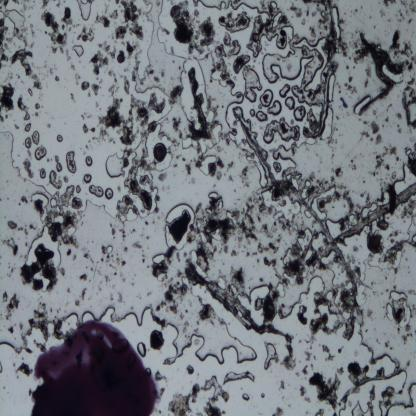Air bubble: (144, 289, 257, 367), (0, 296, 146, 355), (258, 26, 322, 104), (136, 0, 186, 96), (378, 368, 416, 416), (162, 200, 195, 252), (24, 226, 63, 268), (0, 126, 26, 185), (110, 1, 144, 43), (0, 0, 29, 41), (192, 0, 267, 15), (264, 119, 301, 145), (311, 183, 336, 220), (390, 287, 412, 329), (242, 65, 264, 103), (106, 148, 132, 177), (393, 165, 416, 196), (27, 194, 51, 223), (187, 250, 208, 278), (263, 339, 278, 370), (205, 375, 223, 399), (224, 369, 254, 383), (322, 106, 334, 141), (349, 400, 376, 415), (76, 0, 94, 22), (355, 280, 368, 309), (331, 5, 342, 39), (200, 154, 216, 177), (298, 225, 312, 251), (352, 95, 370, 113), (119, 208, 139, 224), (327, 73, 337, 102), (376, 188, 392, 206), (65, 150, 78, 172), (48, 171, 63, 190), (266, 101, 283, 117), (280, 271, 299, 285), (34, 144, 48, 163), (360, 202, 376, 218), (300, 177, 311, 200), (383, 302, 395, 323), (332, 398, 346, 415), (293, 105, 307, 122), (208, 227, 222, 241), (71, 44, 85, 58), (89, 184, 103, 198), (284, 95, 296, 110), (136, 340, 146, 358), (279, 84, 291, 98), (198, 231, 208, 247), (50, 213, 64, 224), (153, 253, 167, 264), (293, 173, 303, 188), (271, 160, 283, 172), (276, 283, 285, 299), (32, 128, 40, 146), (104, 186, 114, 200), (341, 309, 352, 321), (223, 208, 233, 220), (156, 271, 166, 283), (218, 276, 228, 288), (64, 226, 76, 236), (324, 290, 334, 302), (85, 155, 94, 168), (208, 191, 219, 201), (48, 196, 57, 208), (39, 166, 46, 180), (241, 391, 250, 401), (304, 208, 312, 219), (24, 121, 32, 132), (84, 173, 92, 184), (25, 136, 32, 148), (218, 199, 223, 209), (56, 134, 62, 142), (206, 208, 212, 214), (259, 393, 265, 399), (144, 219, 148, 226)
Background material: (194, 200, 255, 271), (99, 92, 166, 144), (169, 1, 219, 58), (321, 277, 362, 342), (33, 183, 83, 236), (231, 195, 279, 247), (183, 65, 214, 143), (19, 244, 59, 295), (30, 303, 67, 349), (286, 240, 328, 280), (8, 46, 42, 90), (305, 368, 341, 409), (126, 161, 153, 211), (297, 302, 329, 344), (41, 6, 69, 52), (386, 32, 416, 72), (156, 278, 188, 314), (168, 383, 204, 414), (303, 0, 332, 37), (151, 243, 180, 279), (324, 36, 348, 79), (305, 301, 332, 339), (254, 285, 281, 323), (364, 218, 388, 258), (275, 330, 298, 370), (98, 243, 127, 271), (401, 76, 416, 130), (91, 42, 114, 76), (335, 192, 357, 227), (384, 0, 416, 22), (0, 286, 20, 318), (359, 118, 382, 144), (384, 238, 405, 266), (221, 30, 242, 58), (375, 144, 398, 168), (0, 82, 15, 118), (57, 226, 80, 249), (228, 267, 247, 294), (0, 16, 10, 67), (214, 156, 236, 179), (81, 77, 101, 102), (13, 359, 34, 379), (17, 95, 32, 122), (148, 328, 164, 351), (255, 240, 277, 255), (168, 81, 183, 101), (198, 303, 214, 321), (2, 238, 18, 256), (78, 26, 96, 42), (124, 42, 140, 60), (171, 116, 183, 139), (321, 343, 333, 364), (24, 157, 35, 179), (262, 254, 278, 269), (240, 166, 250, 188), (154, 168, 169, 182), (299, 385, 309, 405), (121, 76, 132, 94), (344, 78, 355, 96), (332, 166, 345, 180), (94, 14, 109, 26), (117, 49, 127, 66), (77, 269, 89, 283), (129, 240, 143, 252), (339, 97, 350, 111), (347, 157, 358, 170), (82, 251, 94, 262), (278, 378, 286, 394), (81, 123, 90, 137), (80, 286, 88, 301), (186, 364, 196, 376), (272, 406, 284, 415), (116, 288, 123, 303), (52, 73, 62, 83), (109, 225, 116, 239), (185, 163, 192, 177), (304, 350, 312, 362), (7, 224, 19, 232), (337, 344, 345, 355), (119, 228, 126, 240), (302, 363, 309, 375), (65, 248, 73, 258), (336, 365, 343, 375), (61, 266, 68, 276), (105, 246, 113, 254), (153, 74, 160, 82), (74, 298, 80, 306), (34, 101, 40, 109), (141, 253, 145, 265), (146, 235, 150, 240)
Cellulose filter fibre: (235, 116, 360, 325), (336, 178, 416, 245), (354, 43, 404, 113), (344, 367, 403, 400)
Diatom: (154, 145, 168, 164)
Fragment: (168, 208, 192, 244)
Pen: (30, 319, 162, 416)
